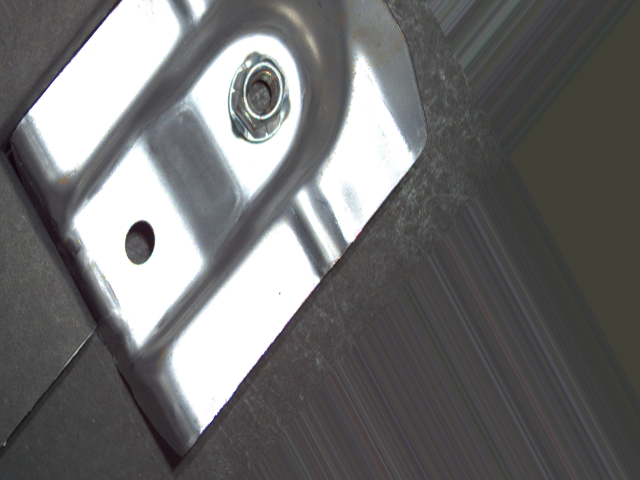good: (225, 49, 294, 155)
